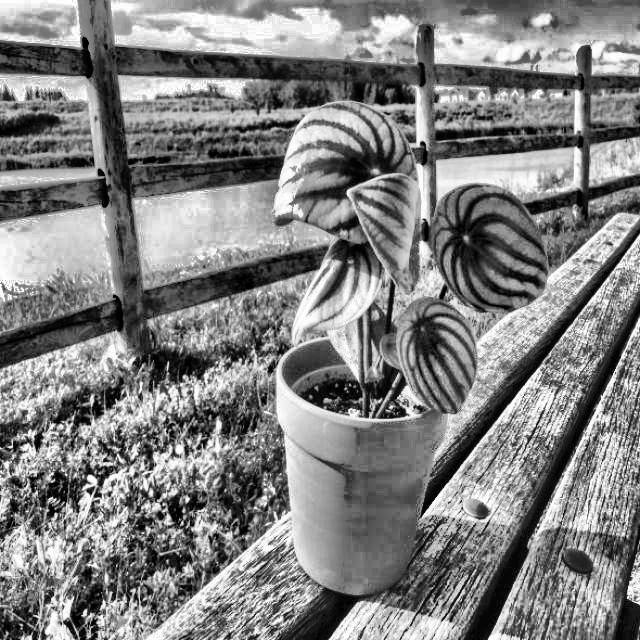plants: (284, 119, 500, 408)
